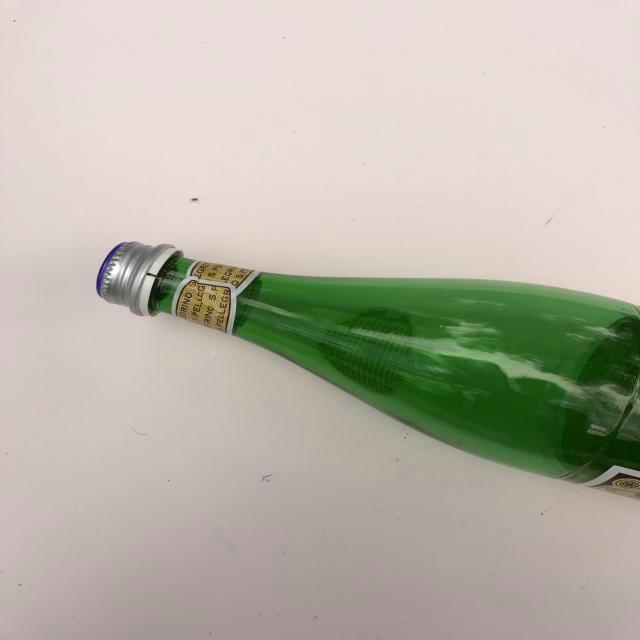glass: (75, 229, 640, 505)
